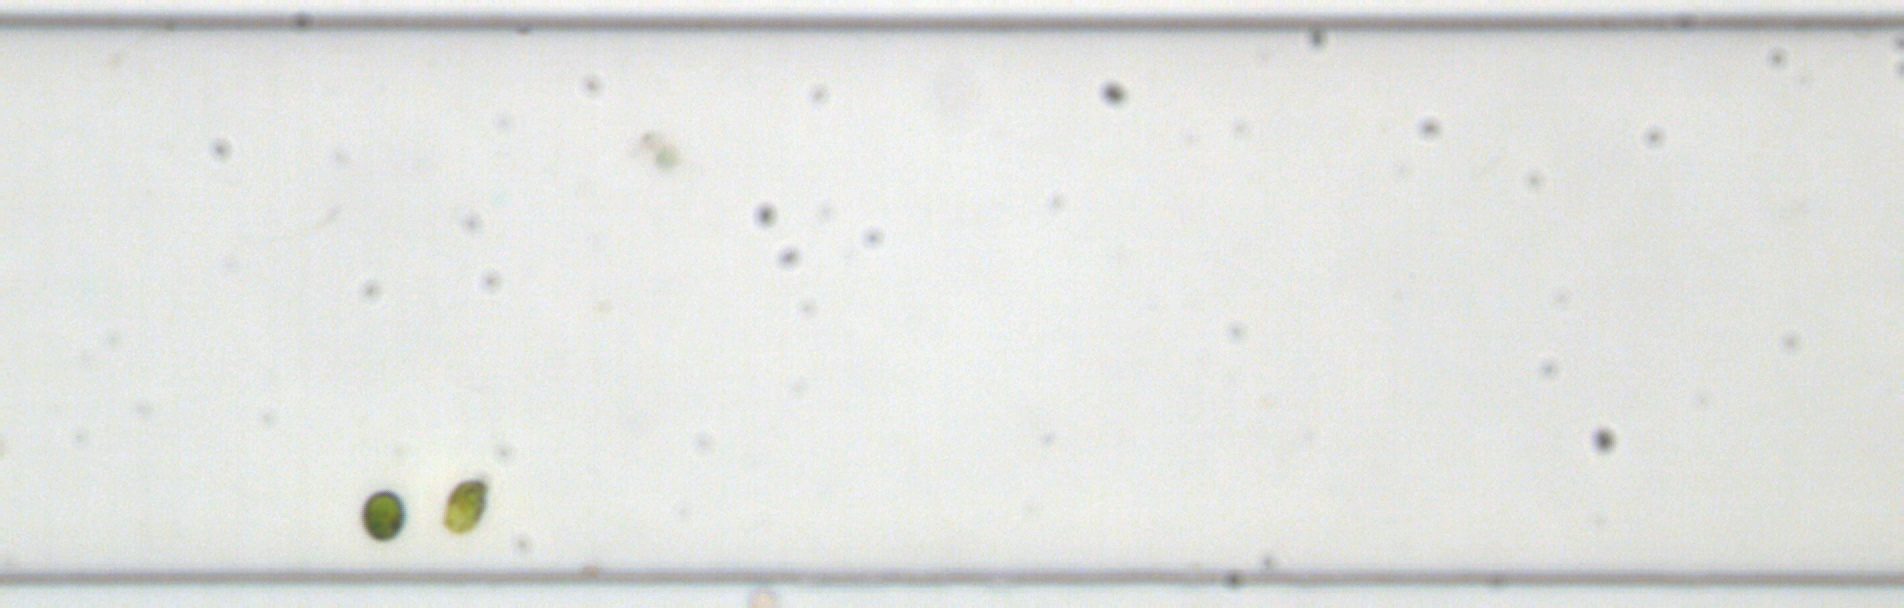Platymonas: (435, 477, 494, 536), (358, 485, 409, 549)
